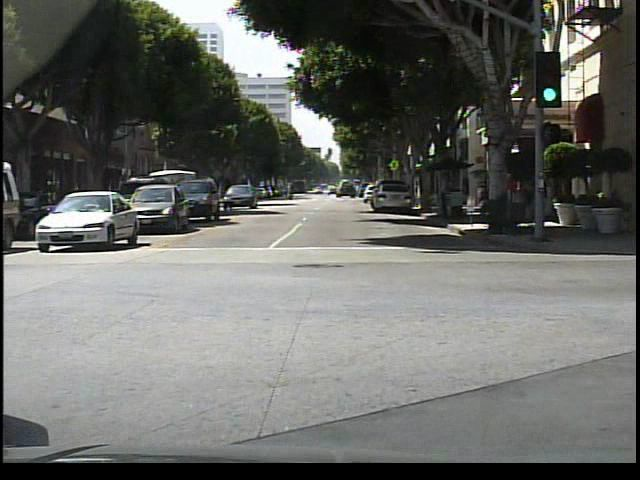person: (532, 162, 550, 237), (503, 169, 517, 220), (439, 172, 454, 219), (286, 184, 295, 201)
